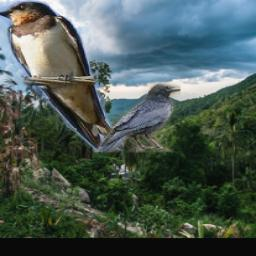Crow: (94, 83, 181, 152)
Swallow: (0, 0, 124, 152)
